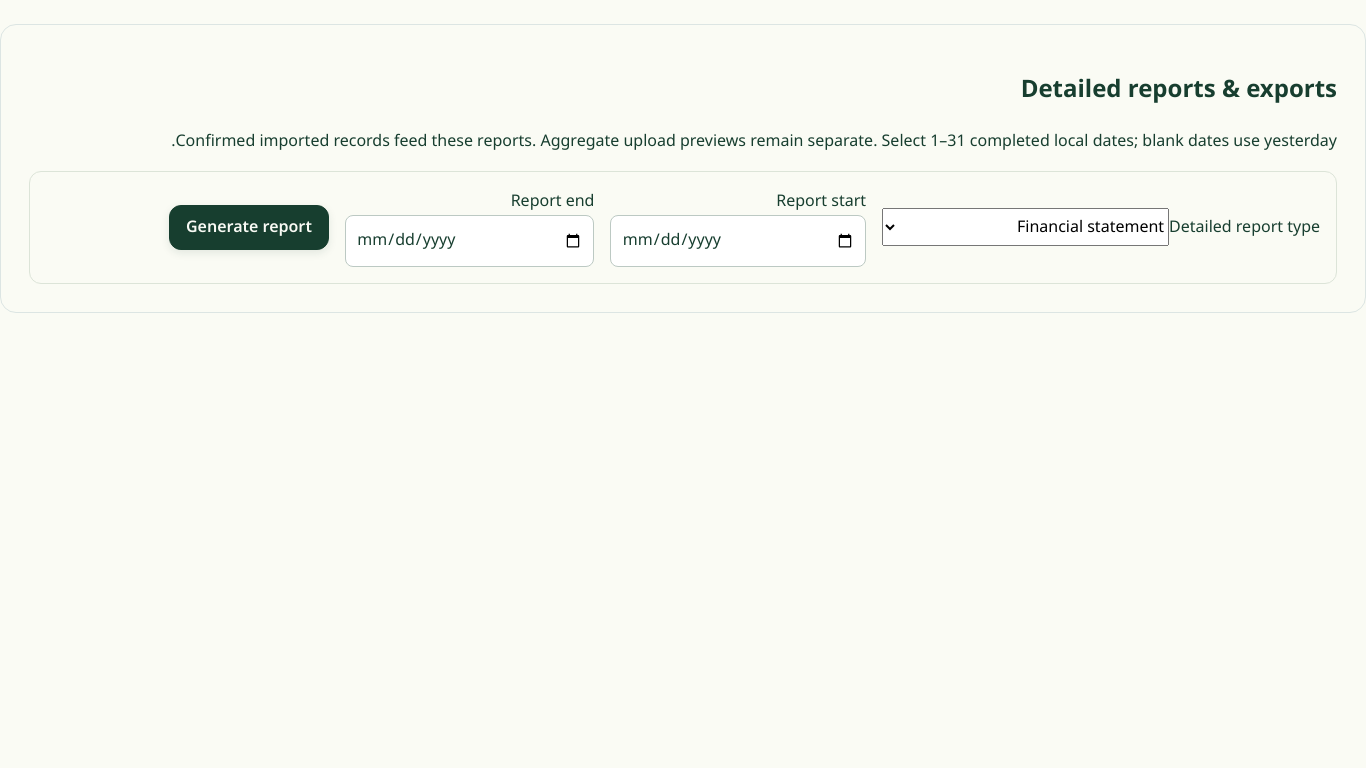
Test: incomplete dates block submission and changing report filters clears old results
The image size is (1366, 768).
Type "2026-08-17" into the date field labelled "Report start" at coordinates (738, 241), box x1=610 y1=215 x2=866 y2=267
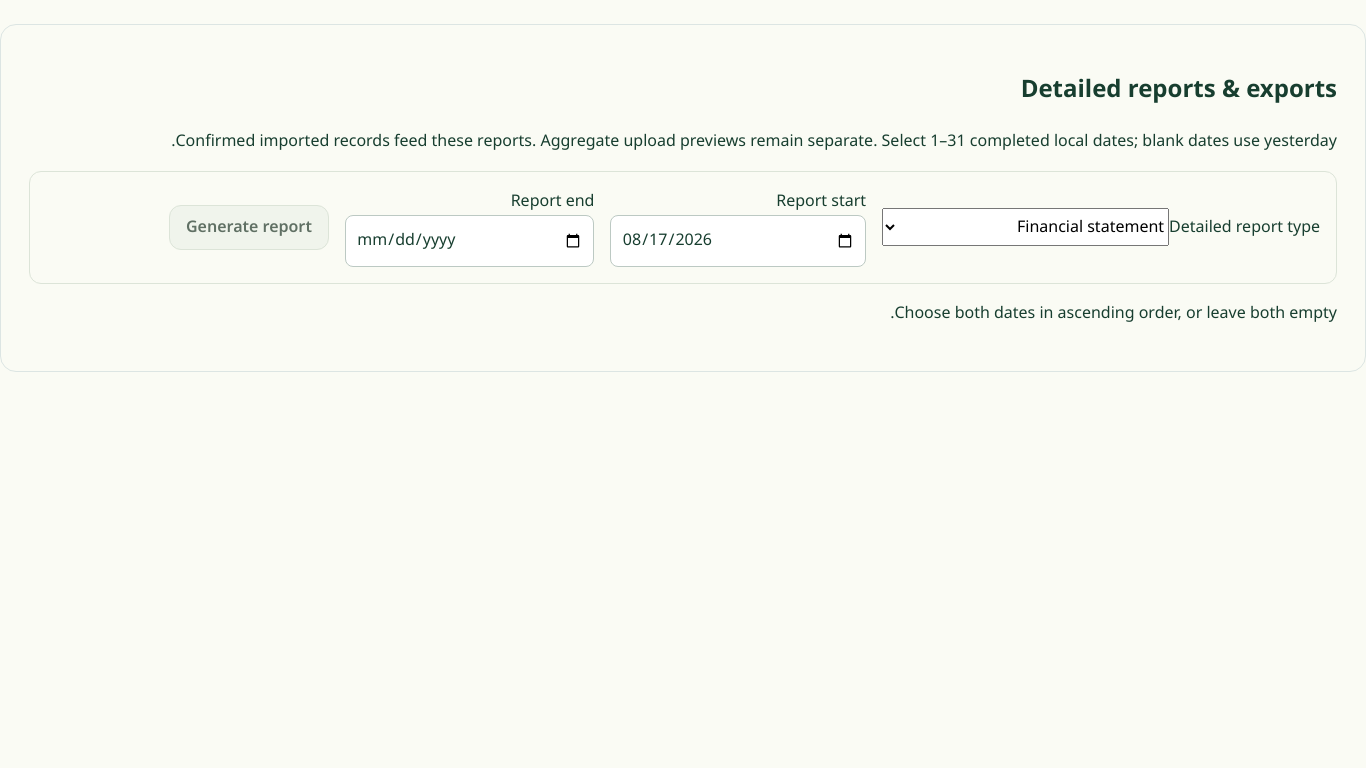
Check: the button "Generate report" is disabled, box x1=169 y1=205 x2=329 y2=250
Type "2026-08-23" into the date field labelled "Report end" at coordinates (470, 241), box x1=345 y1=215 x2=594 y2=267
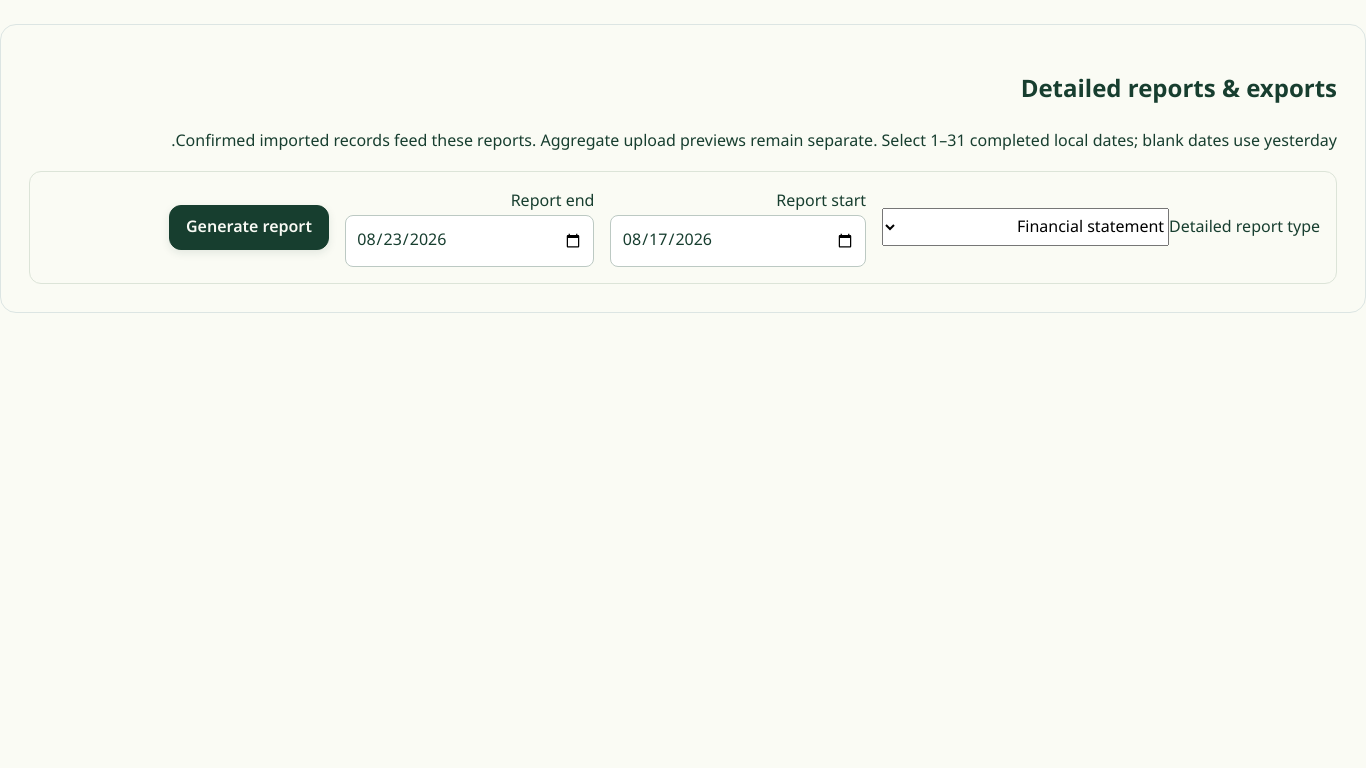
Click the button "Generate report" at coordinates (249, 227), box x1=169 y1=205 x2=329 y2=250
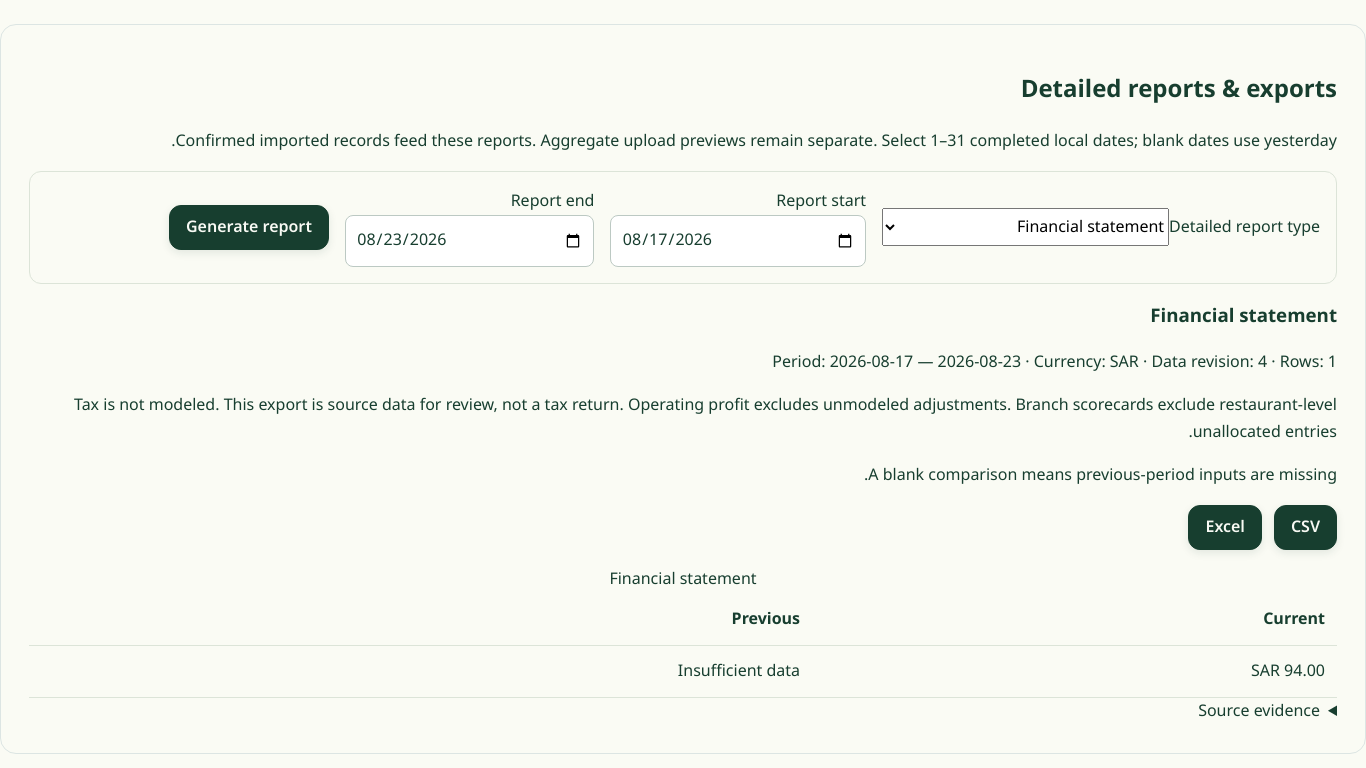
Check: the text "SAR 94.00" is shown, box x1=1251 y1=654 x2=1325 y2=688
Select "Menu economics" in the dropdown labelled "Detailed report type" at coordinates (1026, 227), box x1=882 y1=208 x2=1169 y2=246
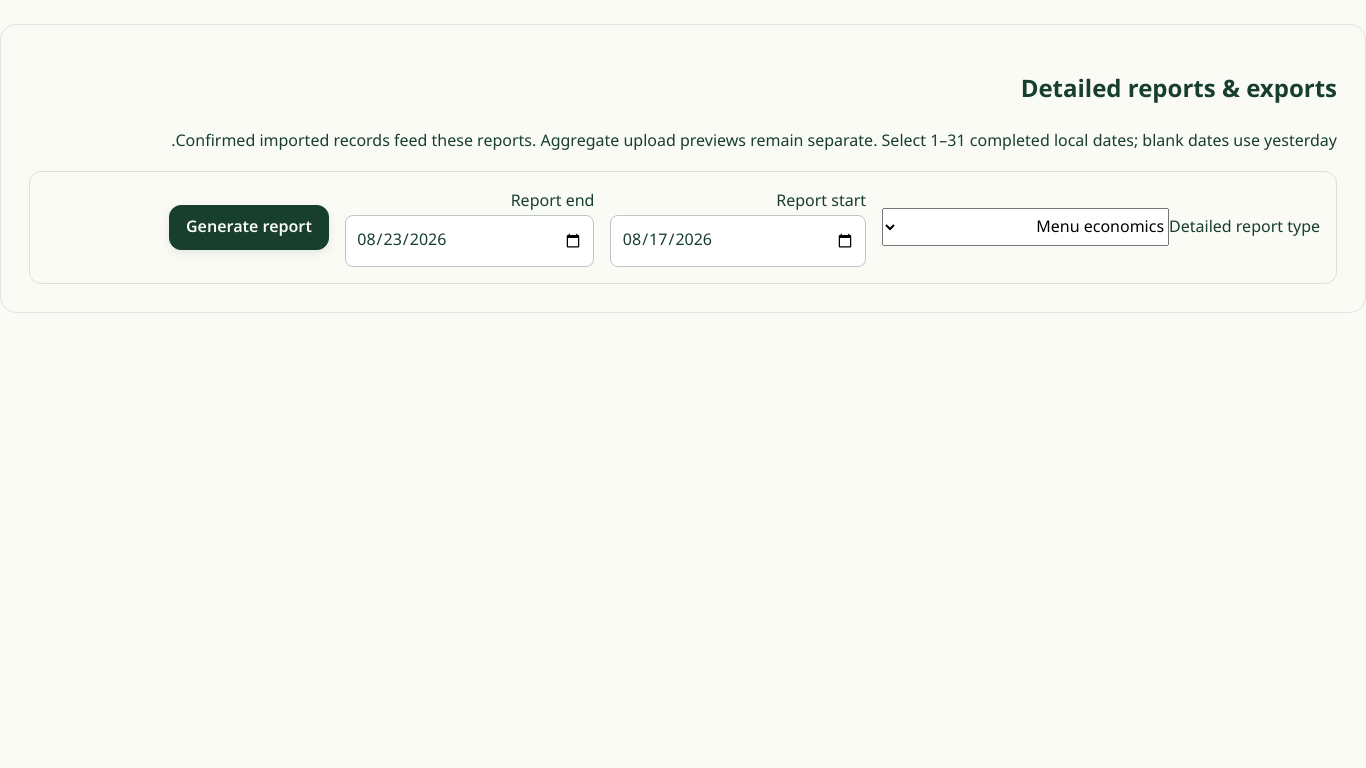
Check: the button "Excel" is gone
